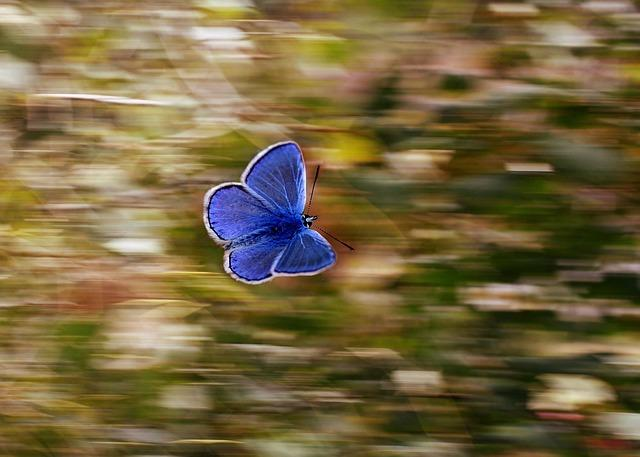Non_Gorille: (9, 0, 608, 457)
